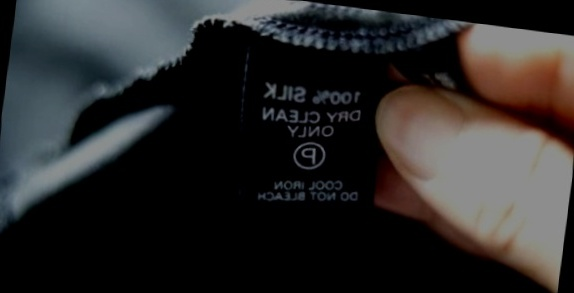dry_clean_any_solvent_except_trichloroethylene: (289, 137, 328, 173)
